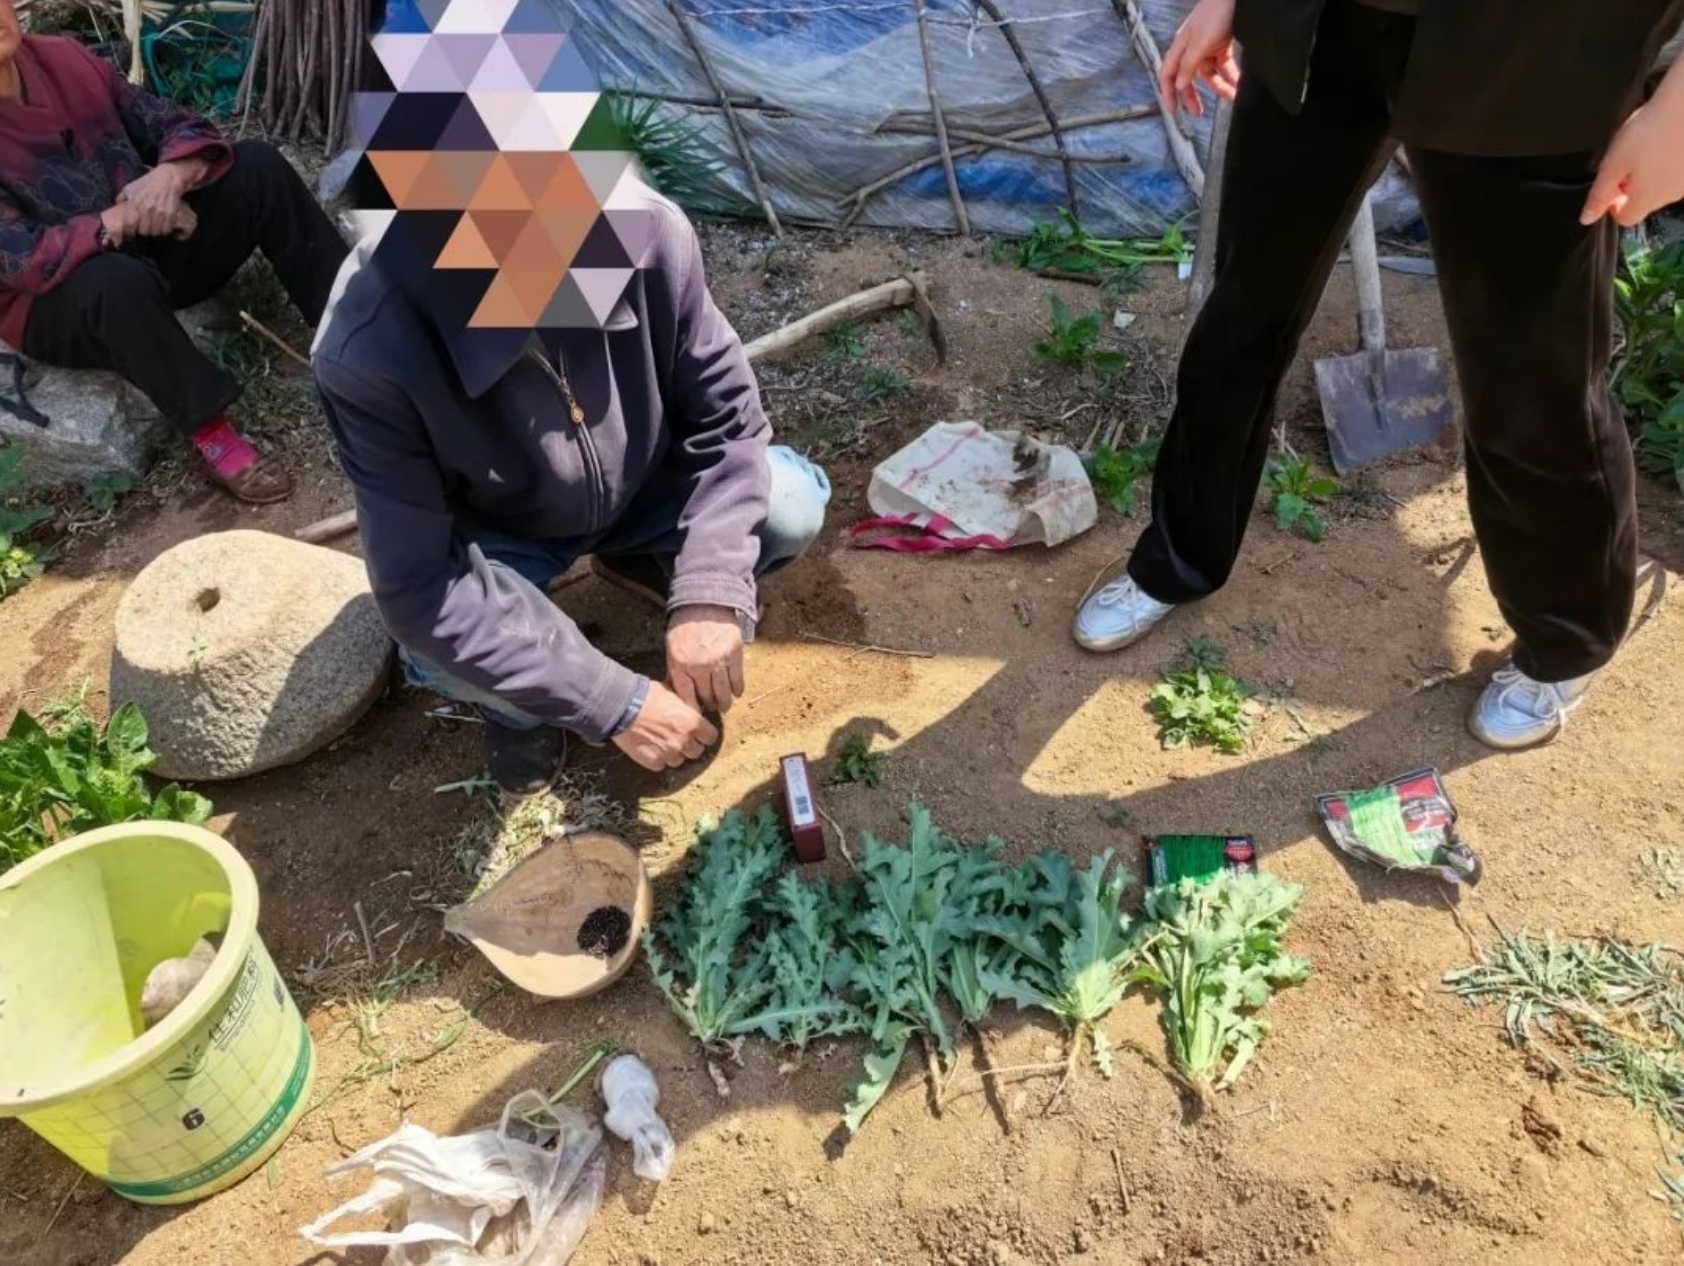Poppy: (641, 747, 1308, 1160)
